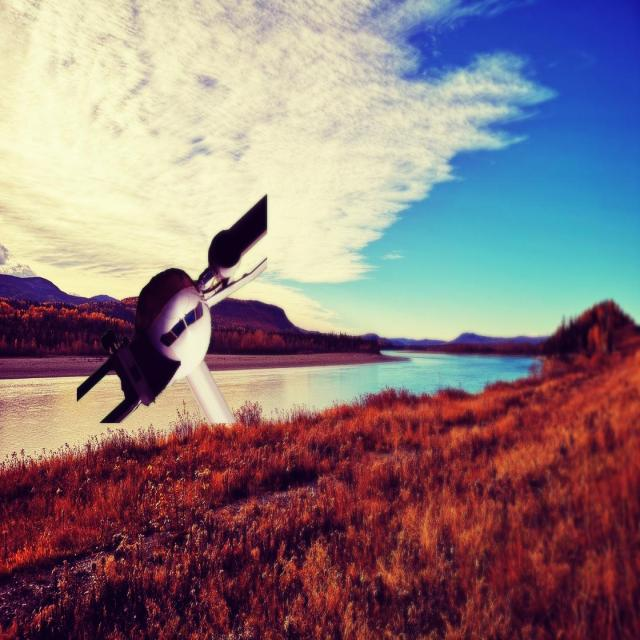airplane: (75, 193, 269, 426)
